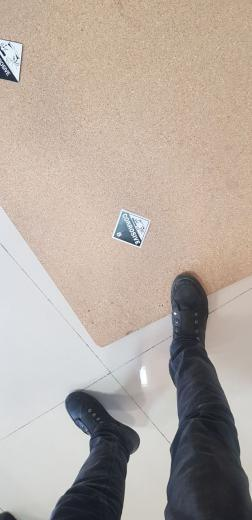corrosive: (112, 210, 151, 247), (1, 39, 26, 86)
